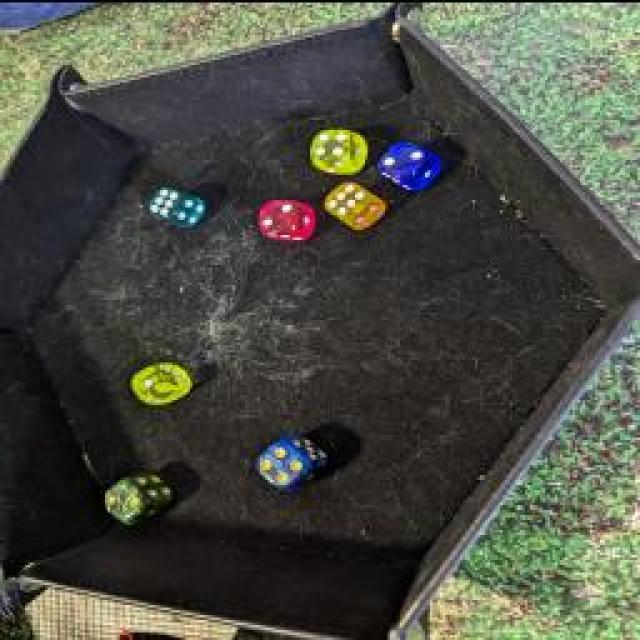dice_1: (125, 356, 193, 404)
dice_2: (100, 470, 180, 522), (374, 138, 448, 188), (249, 198, 309, 238)
dice_4: (256, 430, 334, 490), (306, 124, 364, 174)
dice_6: (319, 179, 386, 229), (142, 185, 208, 223)
